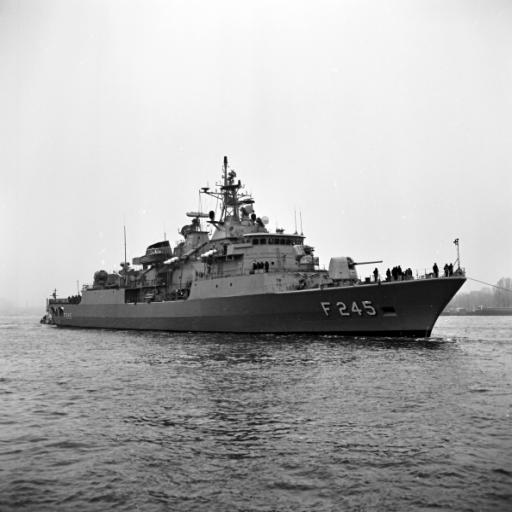Fragata: (39, 135, 475, 343)
